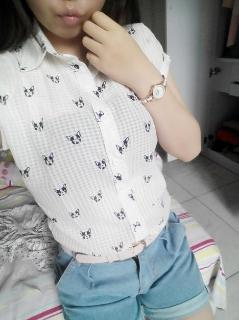short sleeve top: (0, 13, 172, 257)
shorts: (54, 201, 212, 319)
